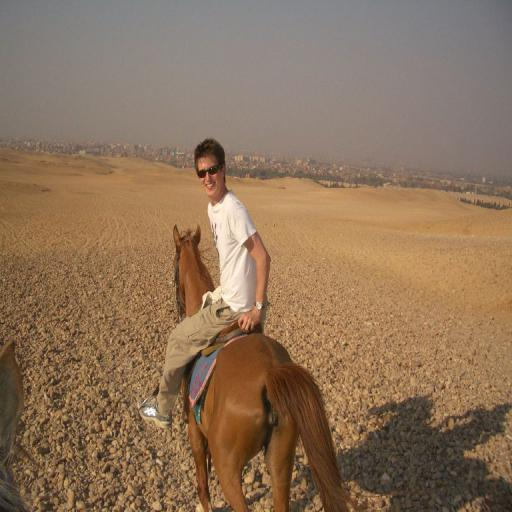horse: (172, 222, 362, 512)
